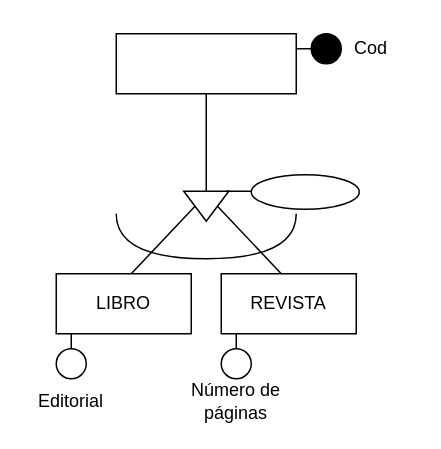
This 441x449 diagram has some shape labels left out. The centre of each missing label's shape, as x and y in pixels:
"ARTÍCULO" goes at (x=205, y=63).
"TIPO" goes at (x=304, y=191).
